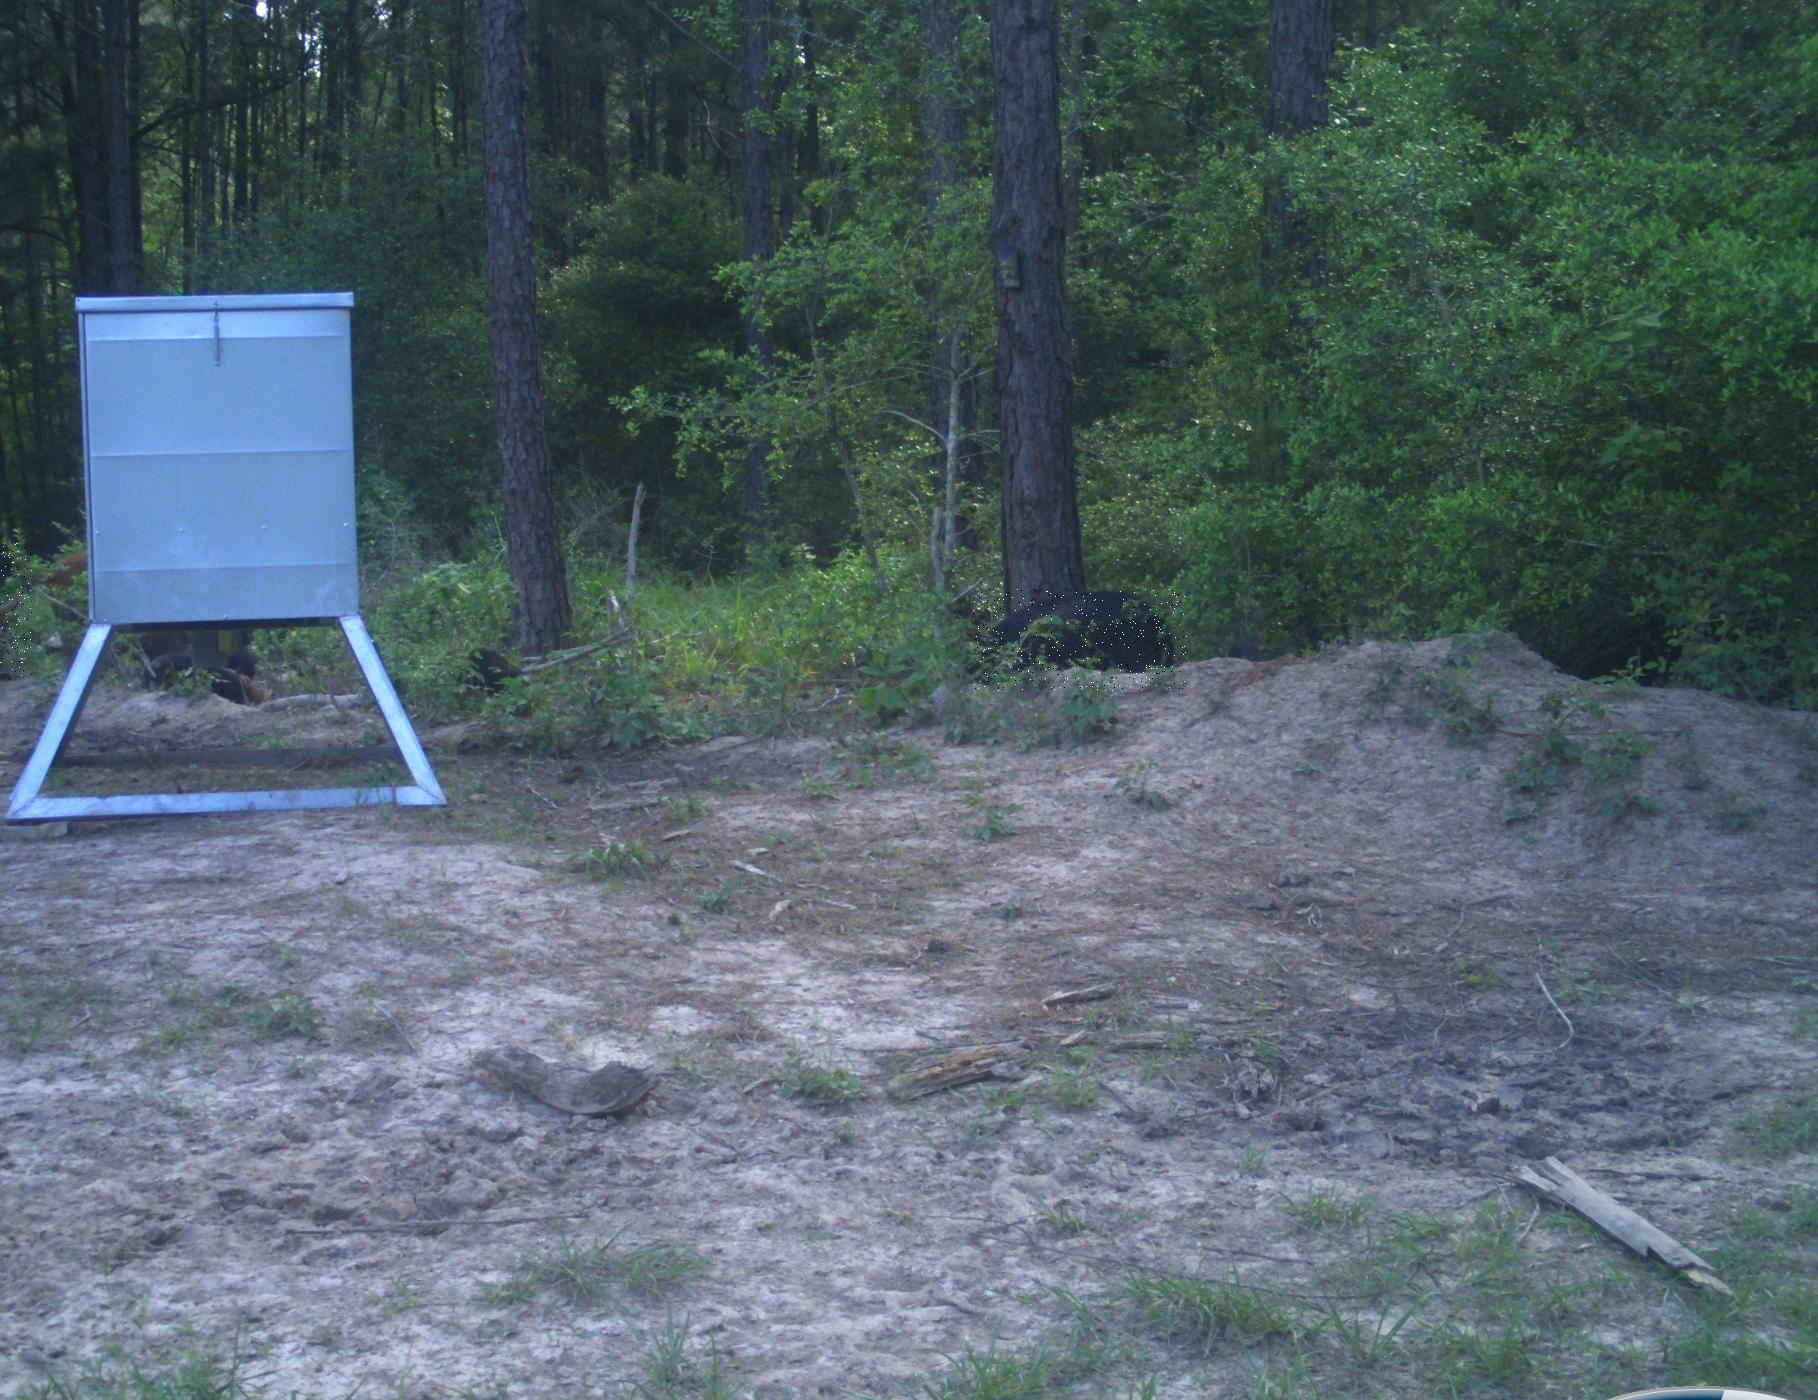Hog: (974, 590, 1187, 691), (0, 538, 32, 679)
